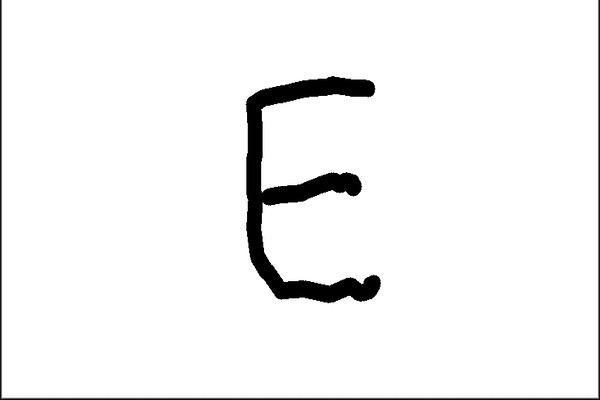E: (239, 72, 386, 310)
